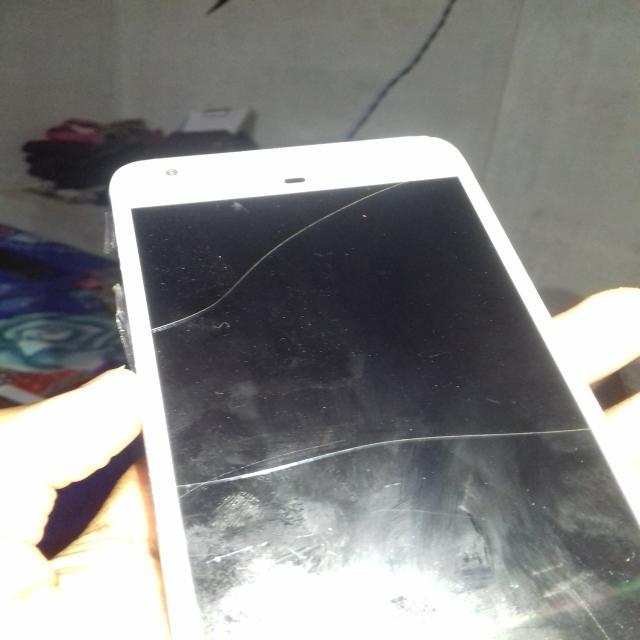scratch: (136, 411, 609, 512), (530, 552, 640, 640), (198, 531, 343, 570)
screen crack: (111, 163, 439, 359)
